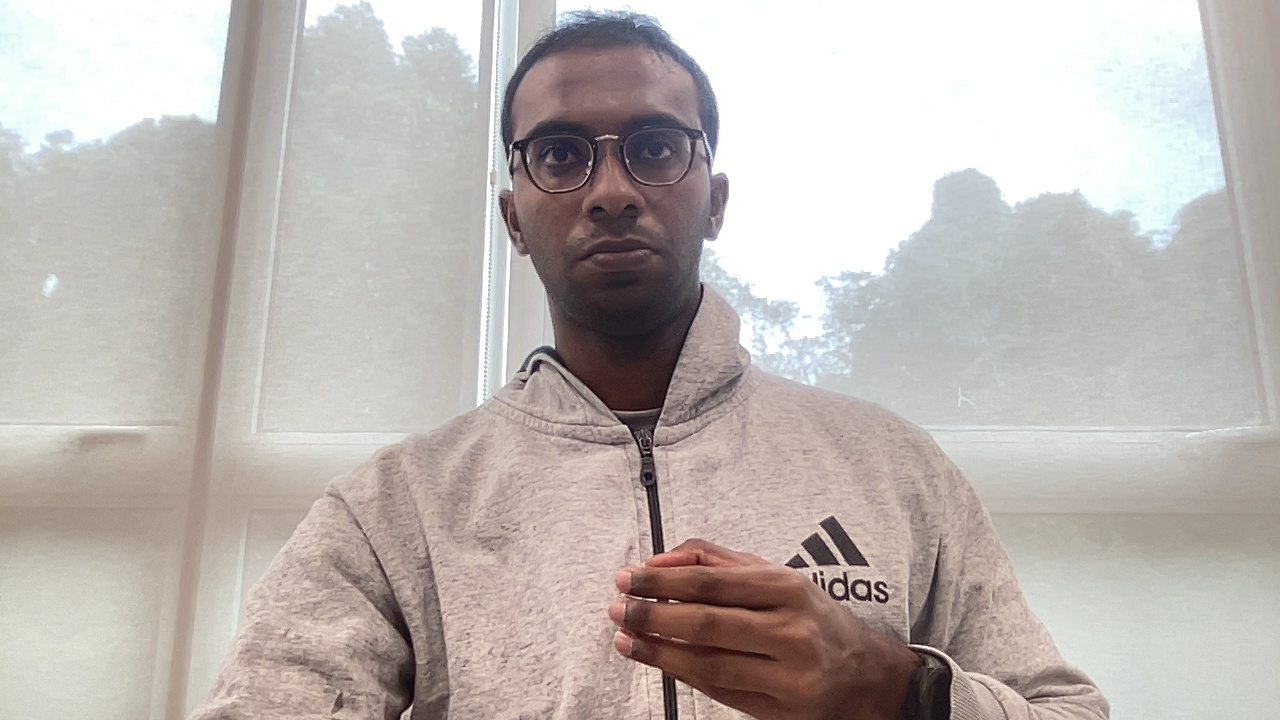drink: (604, 535, 886, 719)
